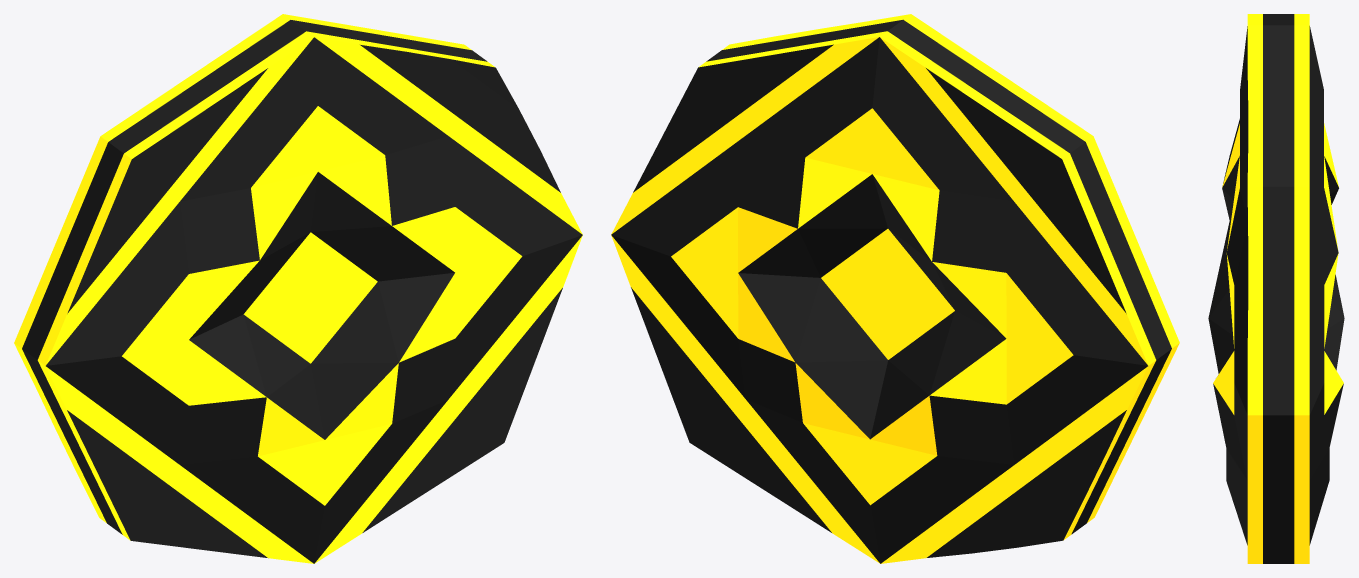
Rendered from yellowTablet.fbx.
3 views of the same model, side by side, from view 1: azimuth 30°, elevation 25°; view 2: azimuth 150°, elevation 25°; view 3: azimuth 270°, elevation 25° (orthographic).
Visible parts, largest first — view 1: Cube; view 2: Cube; view 3: Cube.
Boxes of the visible parts, left/top/right/bottom form: Cube: left=14, top=14, right=582, bottom=563; Cube: left=611, top=14, right=1179, bottom=563; Cube: left=1208, top=14, right=1344, bottom=563.
Bounding box in the file's own units: 146 × 137 × 32.47.
